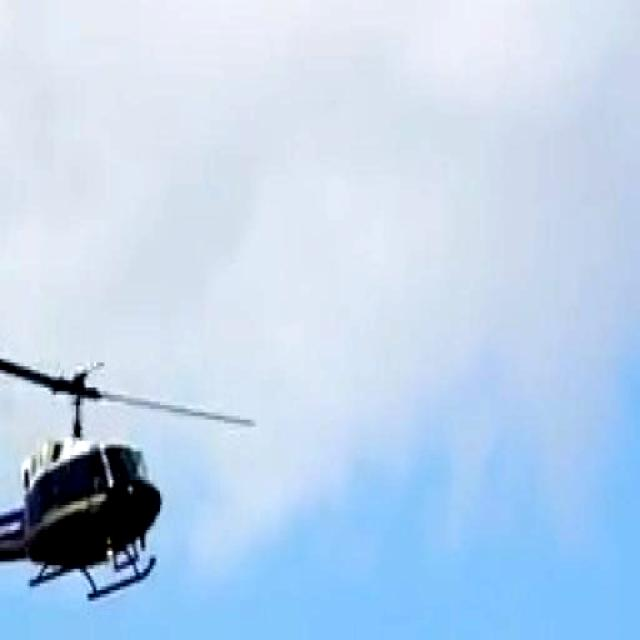drone: (0, 319, 260, 608)
